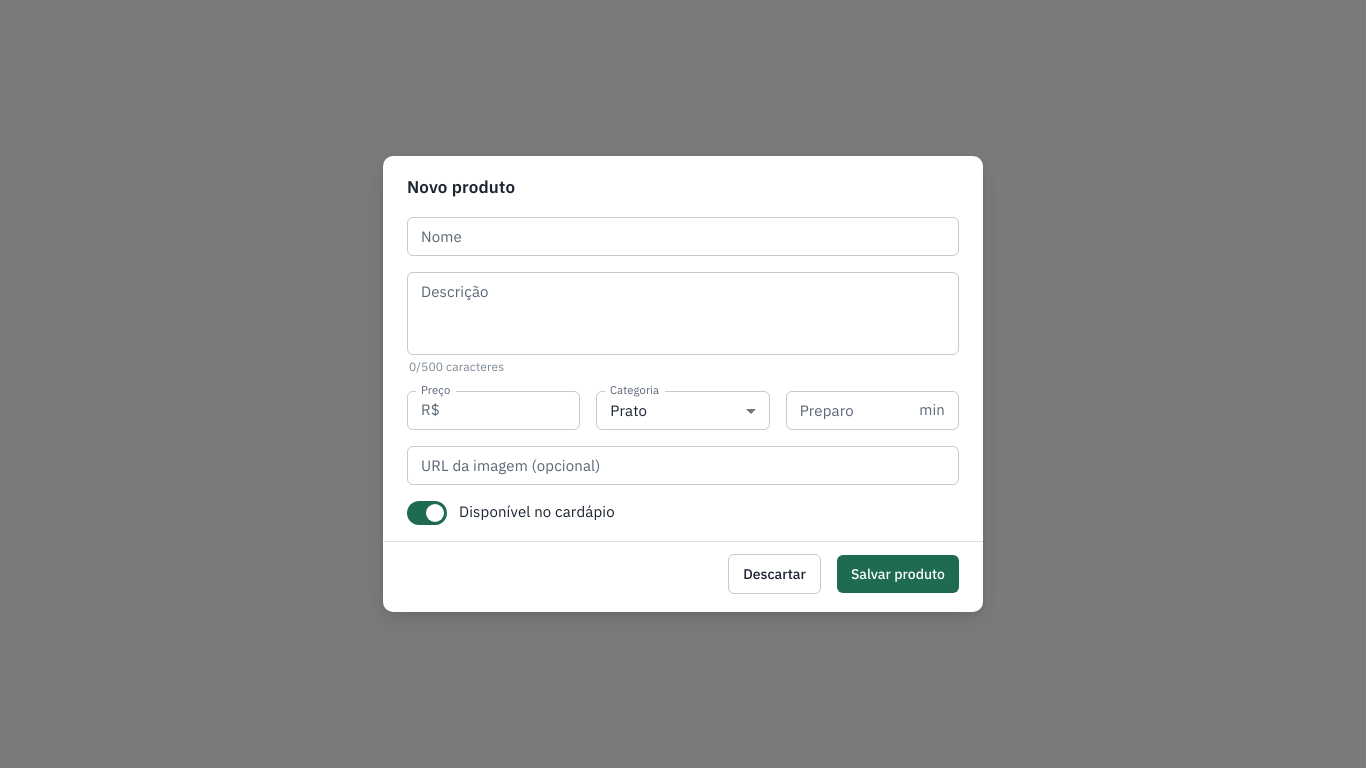
Test case: ProductFormDialog › sends the normalized payload and reports success
In the field labelled "Nome": (683, 236) [407, 217, 959, 256], type "Suco de Uva"
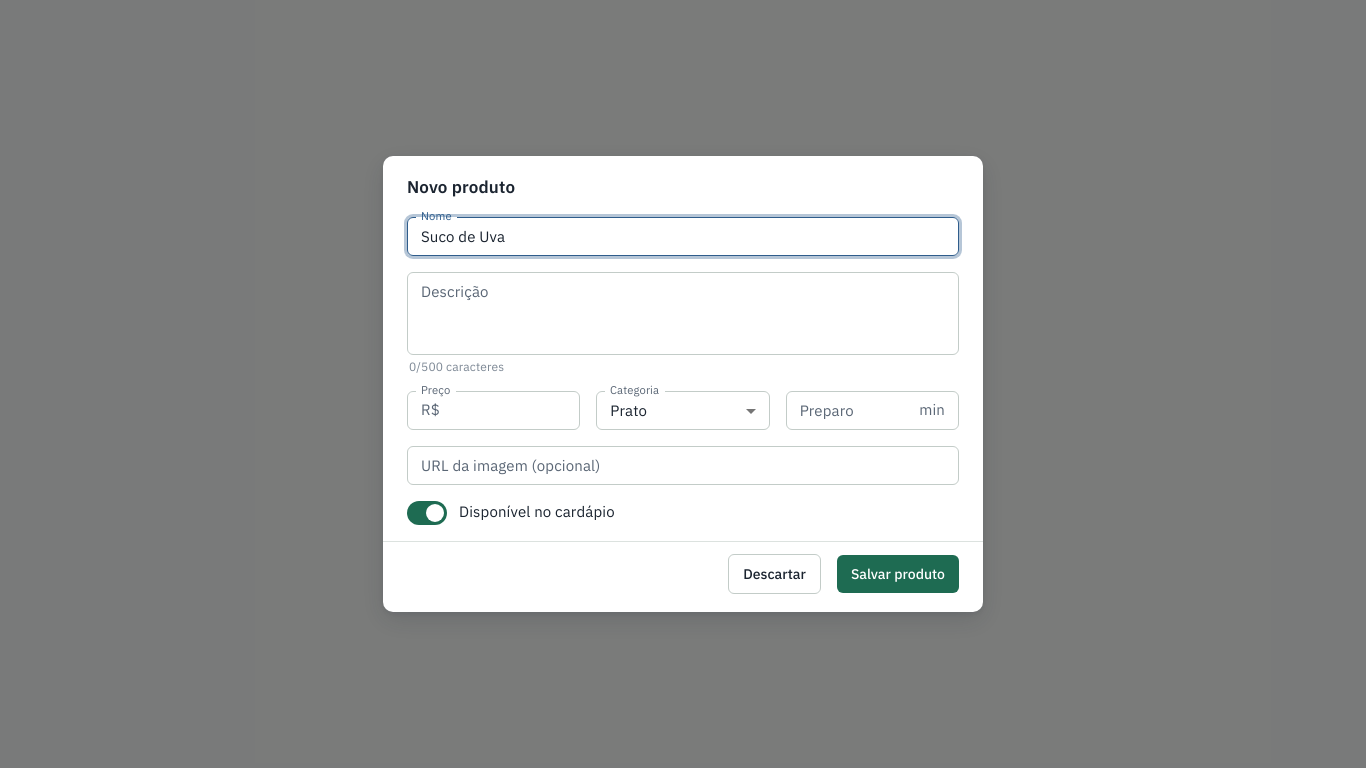
In the text box labelled "Descrição": (683, 313) [421, 280, 945, 346], type "Suco integral de uva, 500ml"
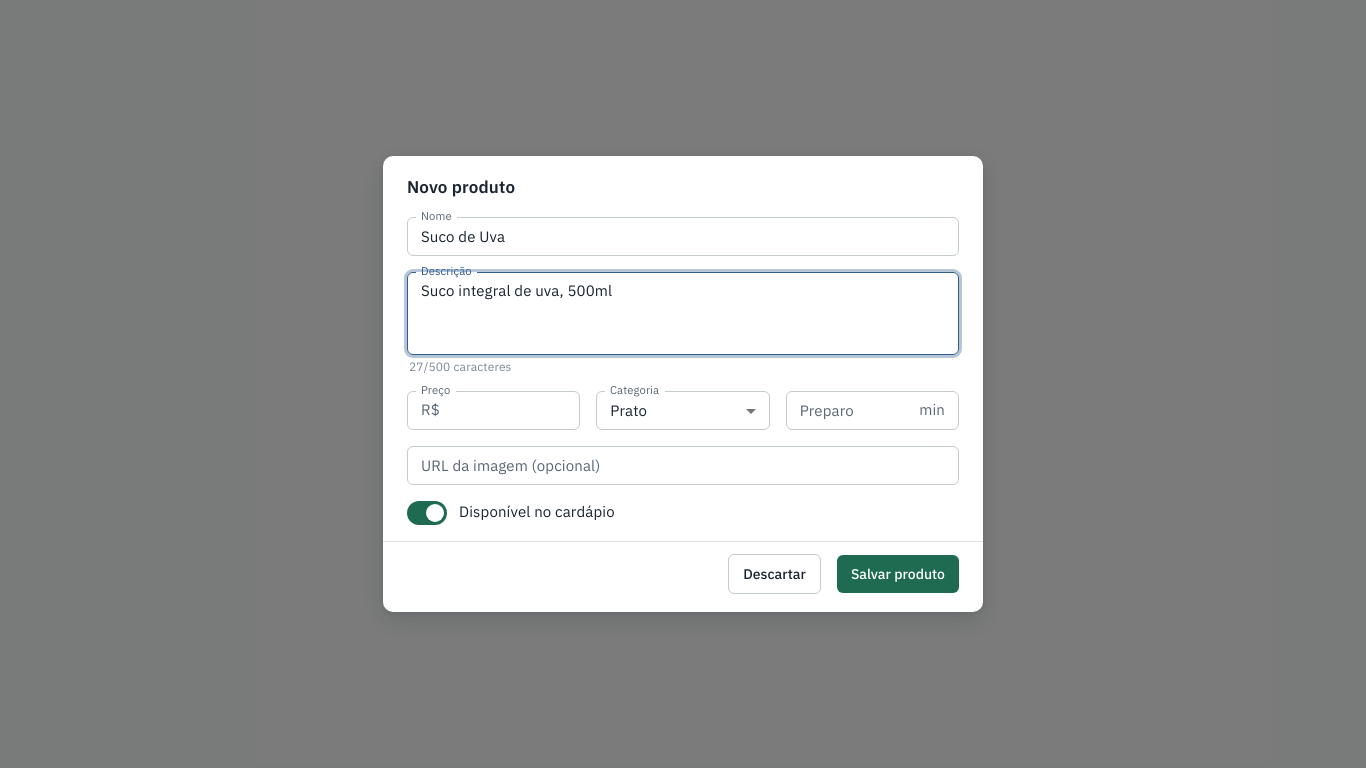
In the field labelled "Preço": (514, 411) [448, 391, 580, 430], type "12,50"
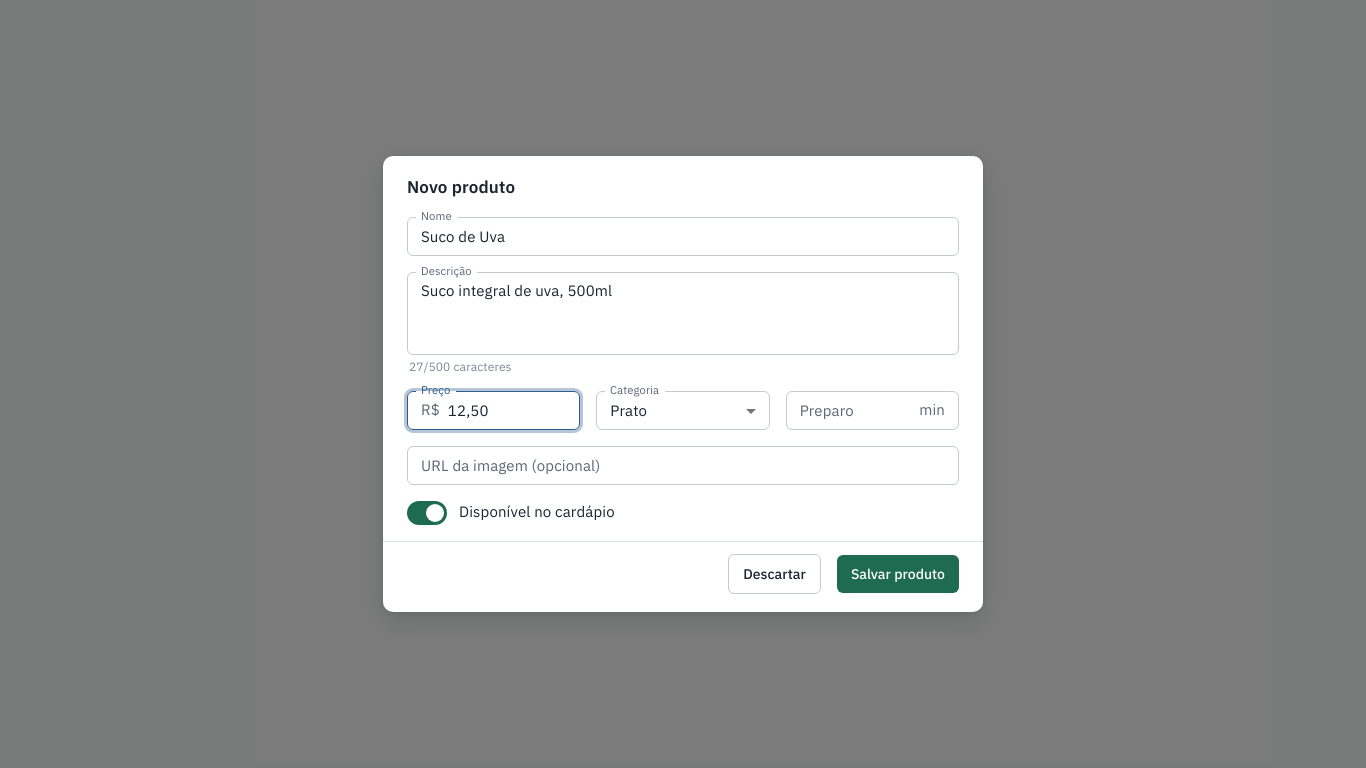
In the field labelled "Preparo": (848, 411) [786, 391, 911, 430], type "5"
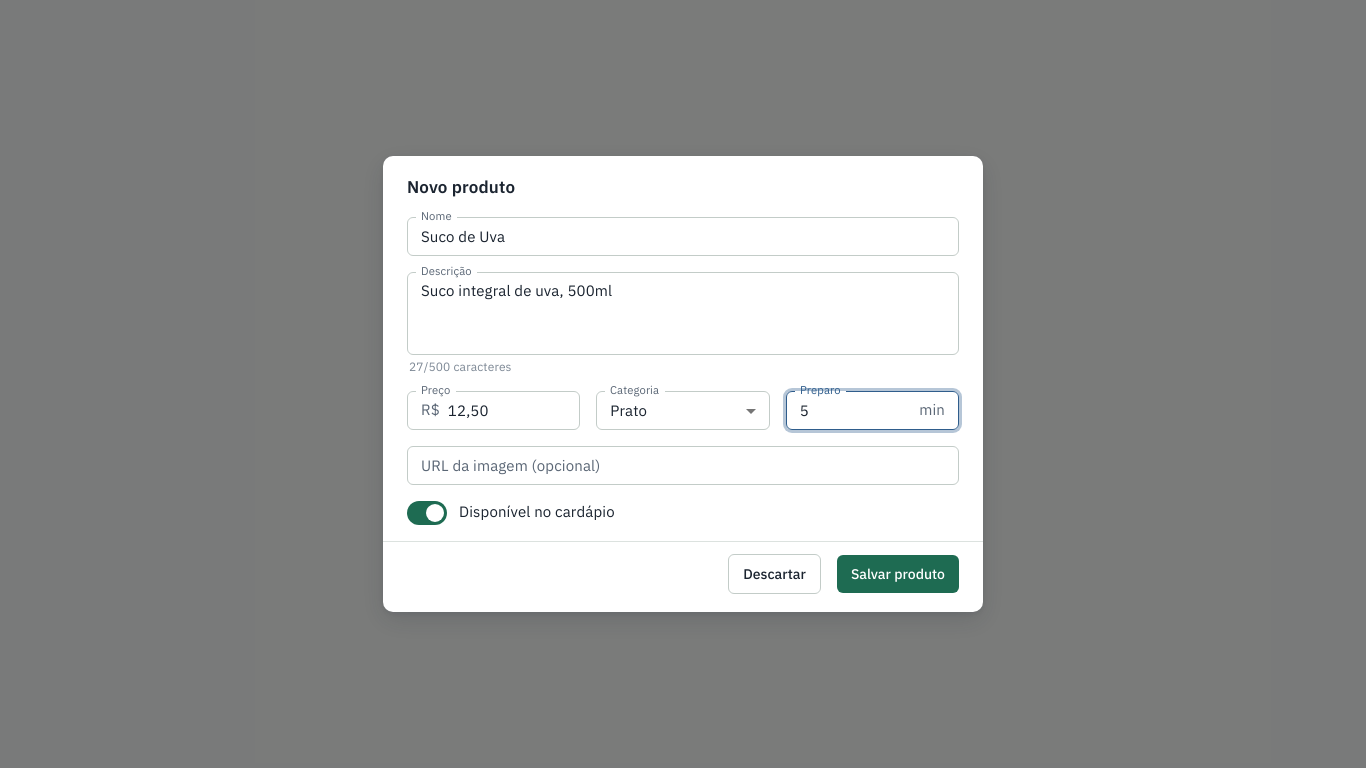
Click the button "Salvar produto": (898, 574) [837, 555, 959, 593]
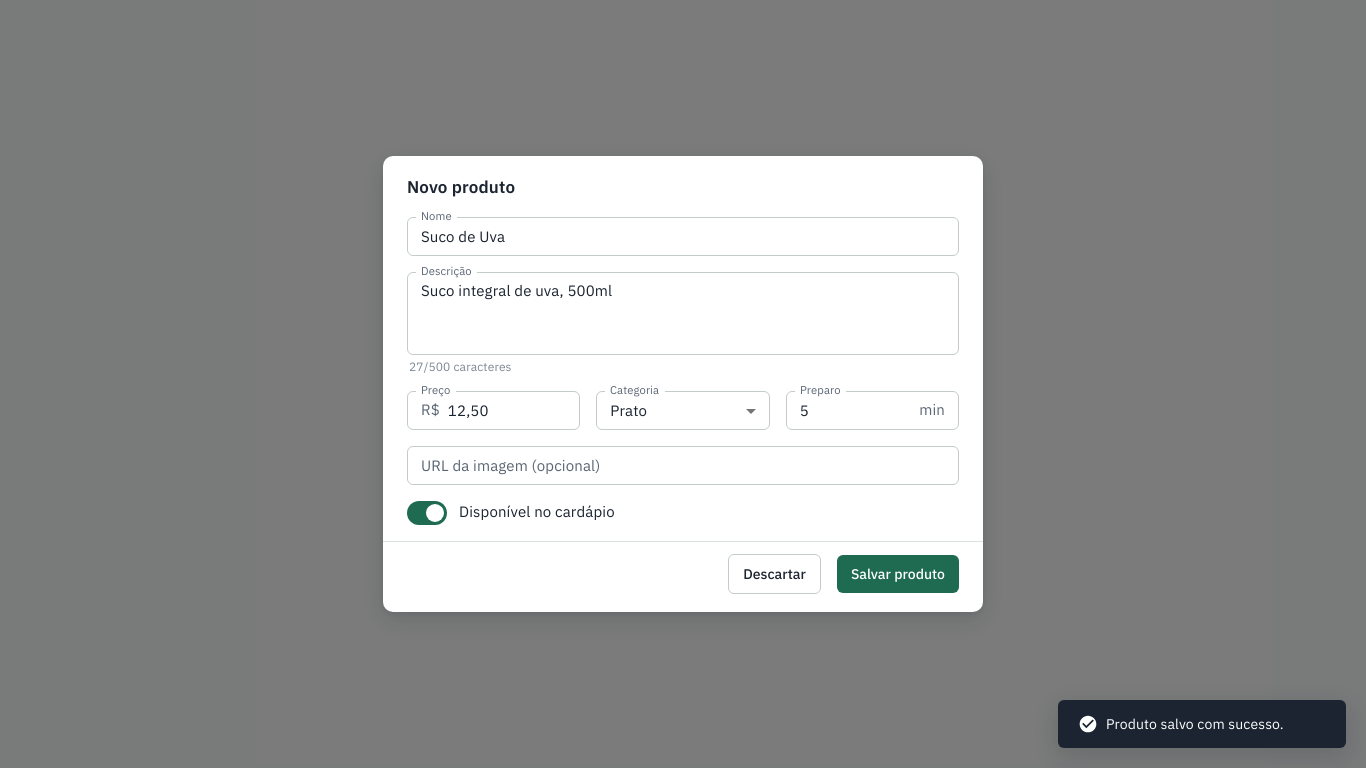
Now the text "Produto salvo com sucesso." is shown, box [1078, 714, 1284, 734]
